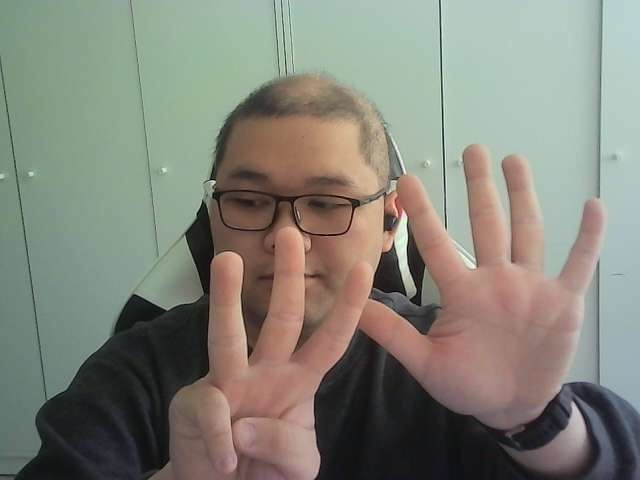Eight: (169, 144, 609, 480)
